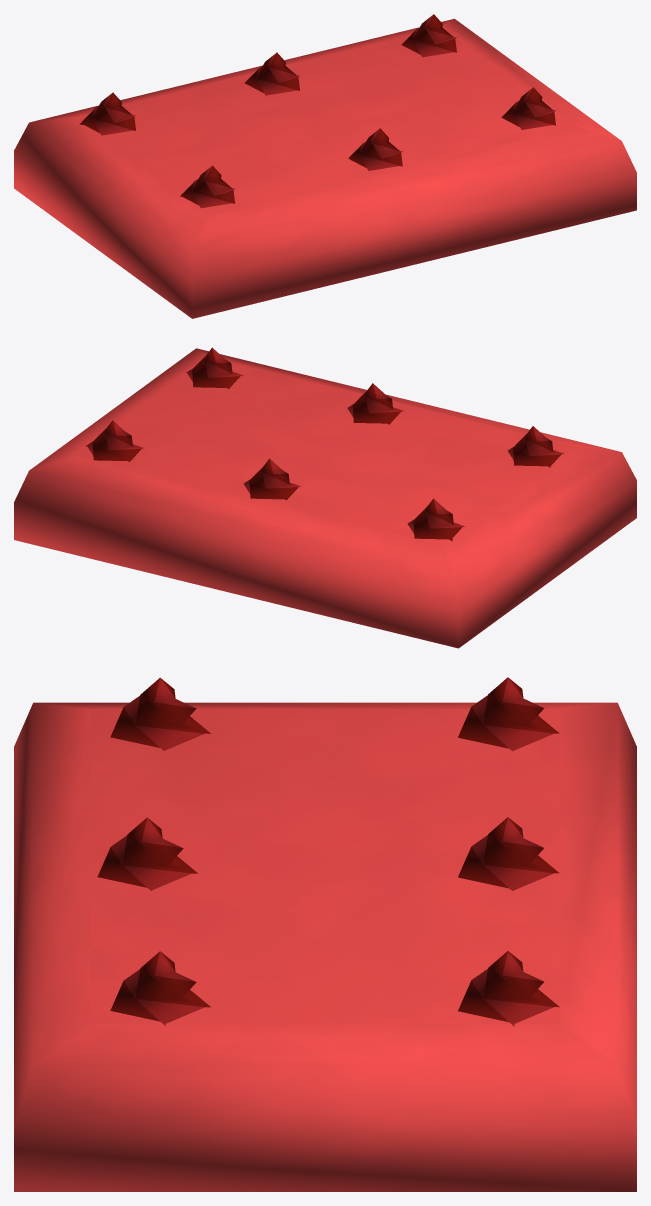
File: Sheet_Cake_A_9.FBX
3 renders of one model, top to bottom at view 1: azimuth 30°, elevation 25°; view 2: azimuth 150°, elevation 25°; view 3: azimuth 270°, elevation 25°, orthographic. The views are drawn at different scales.
Visible parts, largest first — view 1: Sheet Cake; view 2: Sheet Cake; view 3: Sheet Cake.
Boxes of the visible parts, box(x1,y1,x2,y2) form: Sheet Cake: box(14, 14, 636, 318); Sheet Cake: box(14, 347, 636, 648); Sheet Cake: box(14, 677, 636, 1191).
Bounding box in the file's own units: 180 × 41.76 × 125.
